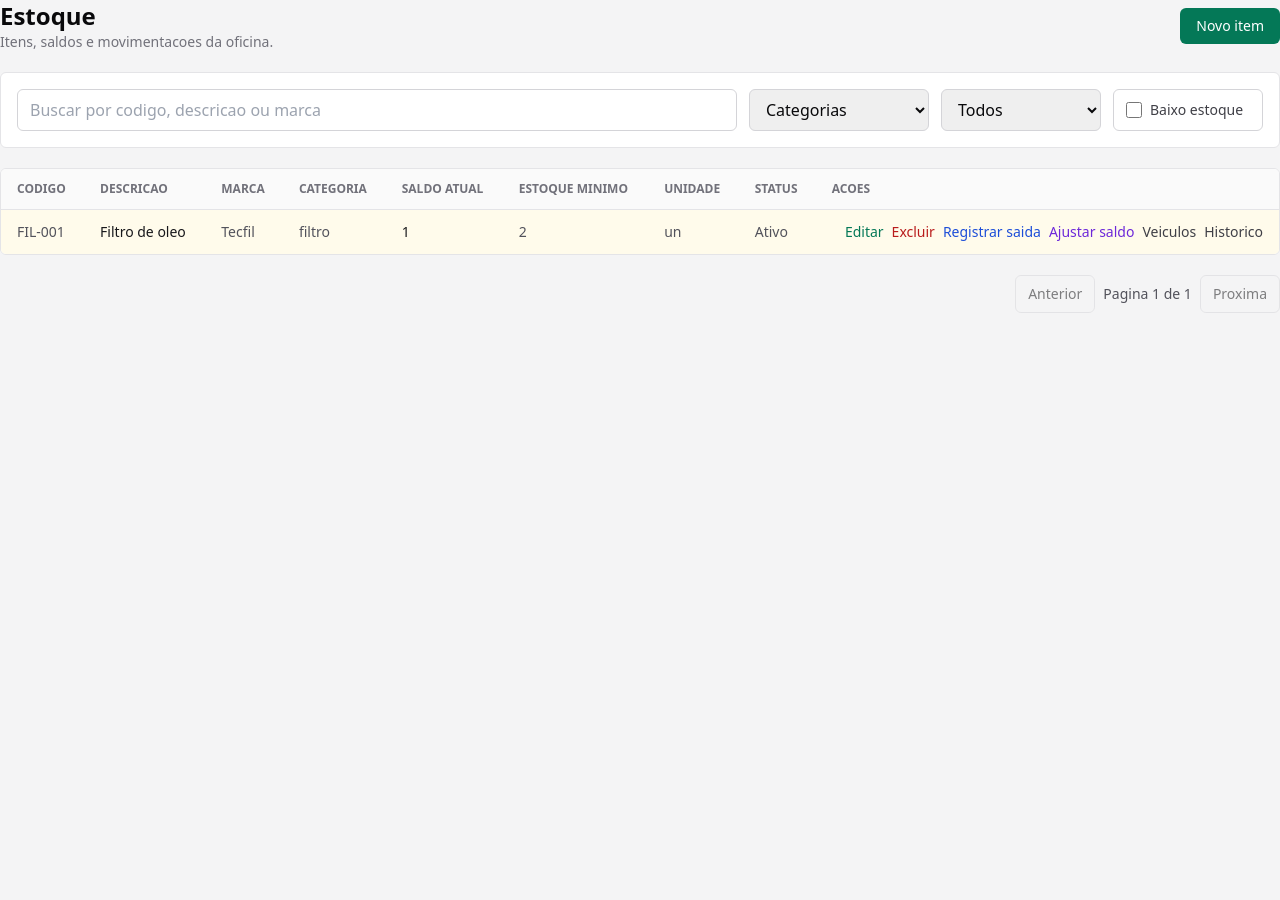
Test: EstoquePage › abre modal de novo item
The image size is (1280, 900).
Click the button "Novo item" at point(1230, 26), box [1180, 8, 1279, 44]
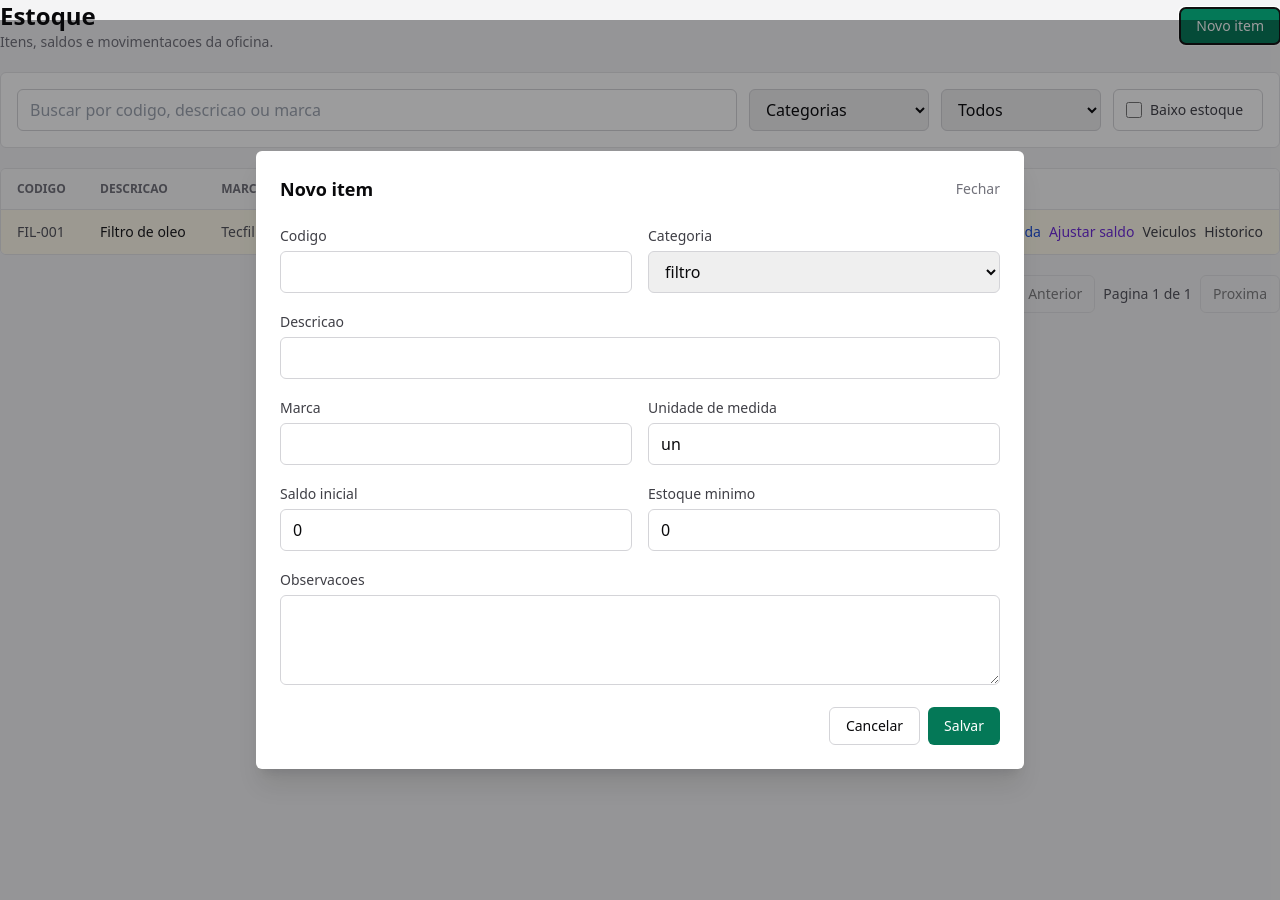
expect the heading "Novo item" is shown: met, box [280, 175, 373, 203]
